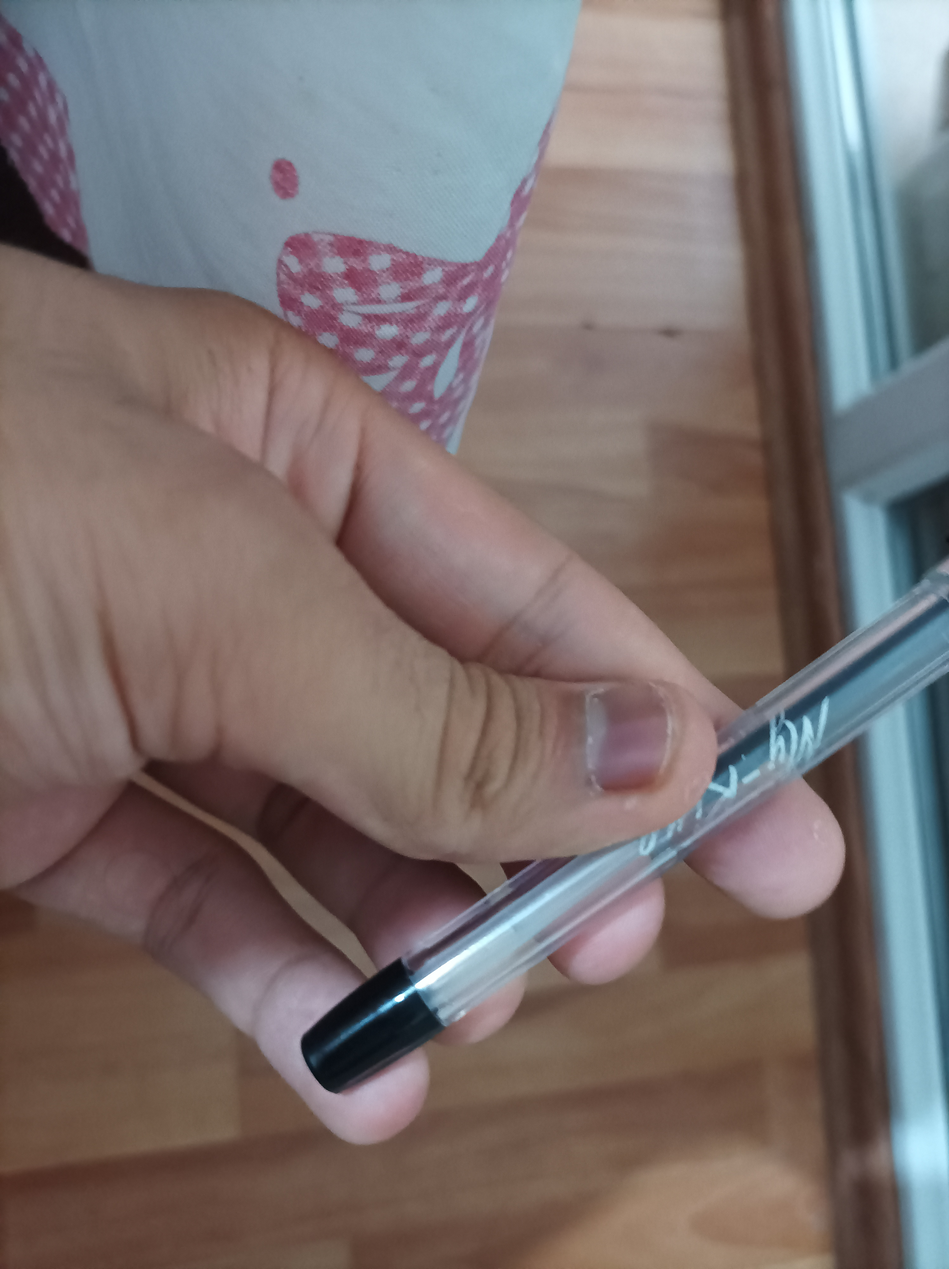plastic: (296, 562, 949, 1123)
